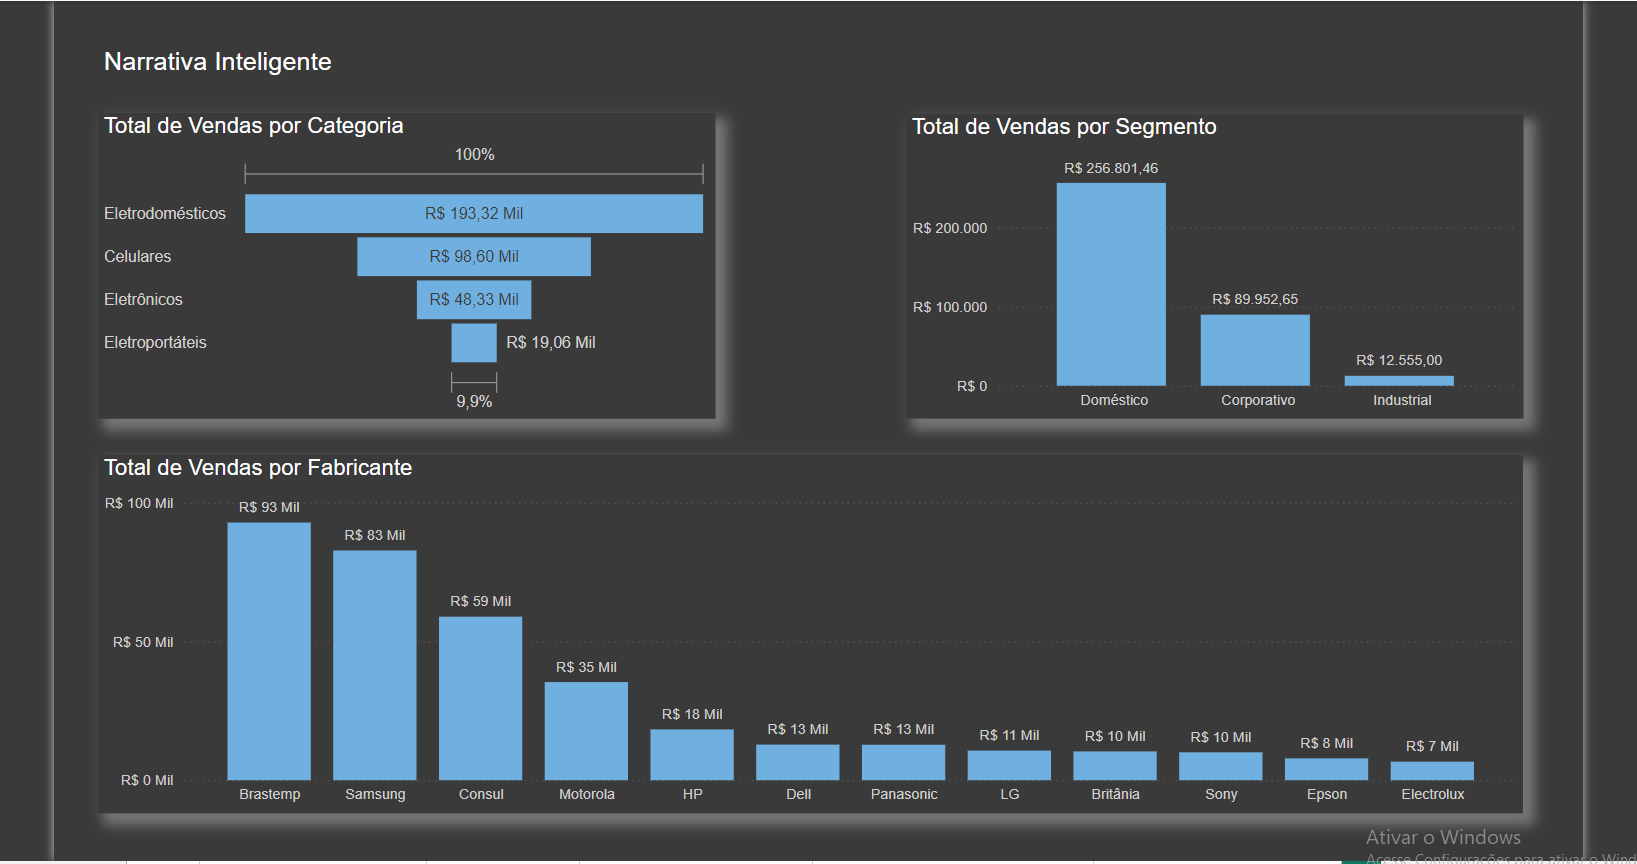

Layout of this report page (visuals, bound fields, positions):
{"tool":"powerbi","page":{"name":"Narrativa Inteligente","canvas":[1280,720],"ordinal":2},"visuals":[{"type":"columnChart","fields":{"Category":["Vendas.Segmento"],"Y":["Sum(Vendas.ValorVenda)"]},"box":[713.3,94.3,517,255.5],"z":0},{"type":"columnChart","fields":{"Y":["Sum(Vendas.ValorVenda)"],"Category":["Vendas.Fabricante"]},"box":[36.9,380.4,1193.5,300.3],"z":1000},{"type":"funnel","fields":{"Y":["Sum(Vendas.ValorVenda)"],"Category":["Vendas.Categoria"]},"box":[36.9,94.2,516.6,255.7],"z":2000},{"type":"textbox","box":[37.1,33.8,212.6,37.1],"z":2001}]}

Visuals, with their boxes on the page's 1280x720 design canvas (x1, y1, x2, y2). These are canvas units, not pixel positions in the 1637x864 screenshot, which may show the page scaled, cropped or inside an application window:
columnChart - Vendas.Segmento x Sum(Vendas.ValorVenda): BBox(713, 94, 1230, 350)
columnChart - Sum(Vendas.ValorVenda) x Vendas.Fabricante: BBox(37, 380, 1230, 681)
funnel - Sum(Vendas.ValorVenda) x Vendas.Categoria: BBox(37, 94, 554, 350)
textbox: BBox(37, 34, 250, 71)
